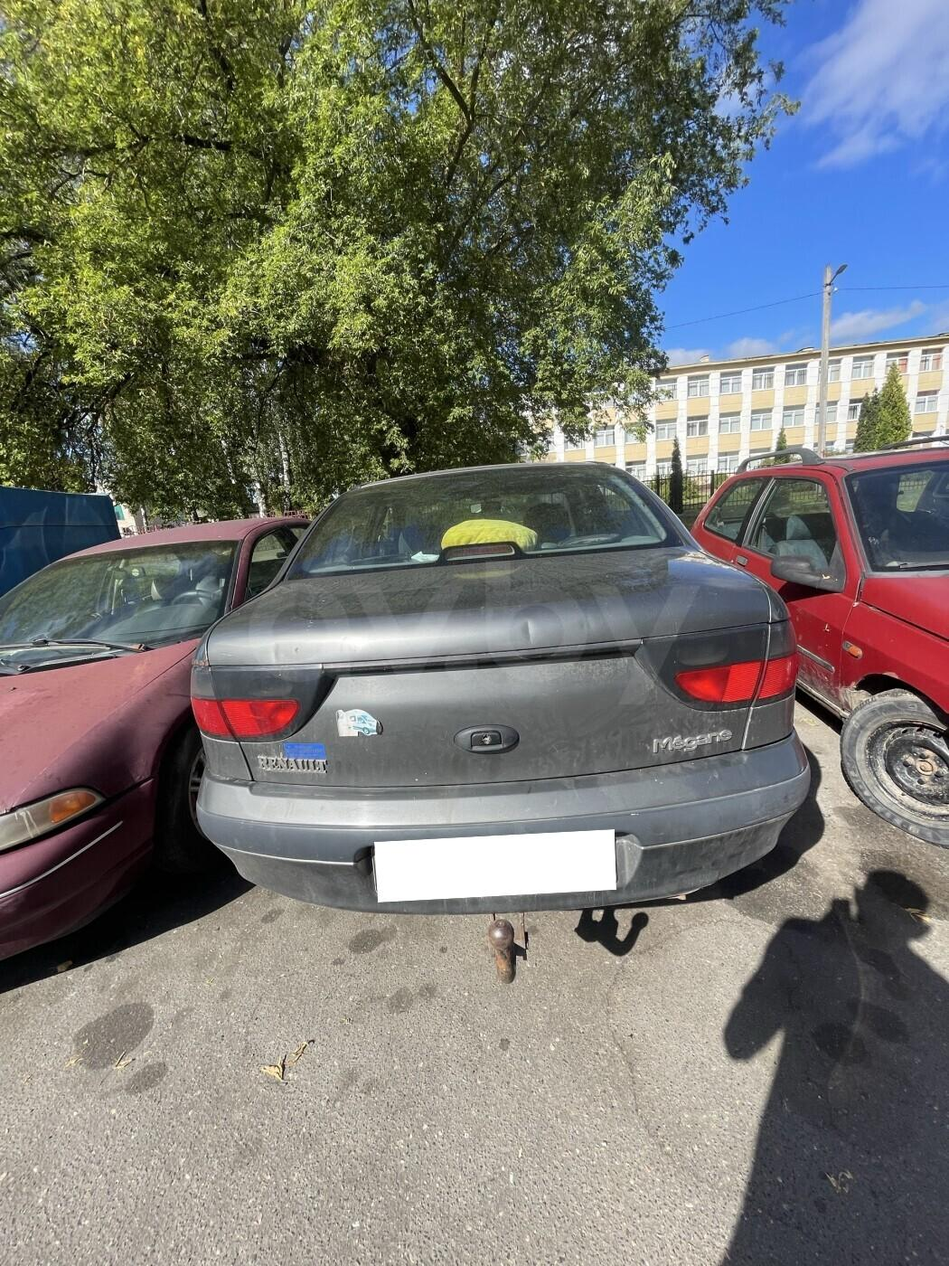Megane_1995-1999: (193, 467, 813, 915)
